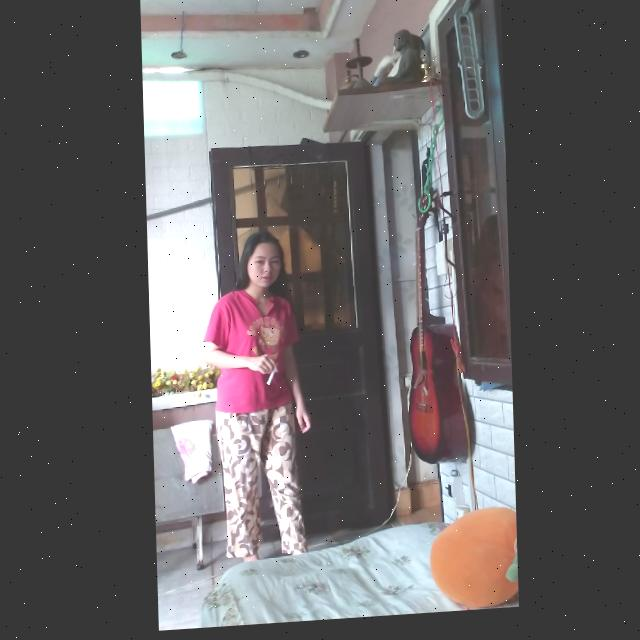cigarette: (262, 368, 276, 389)
